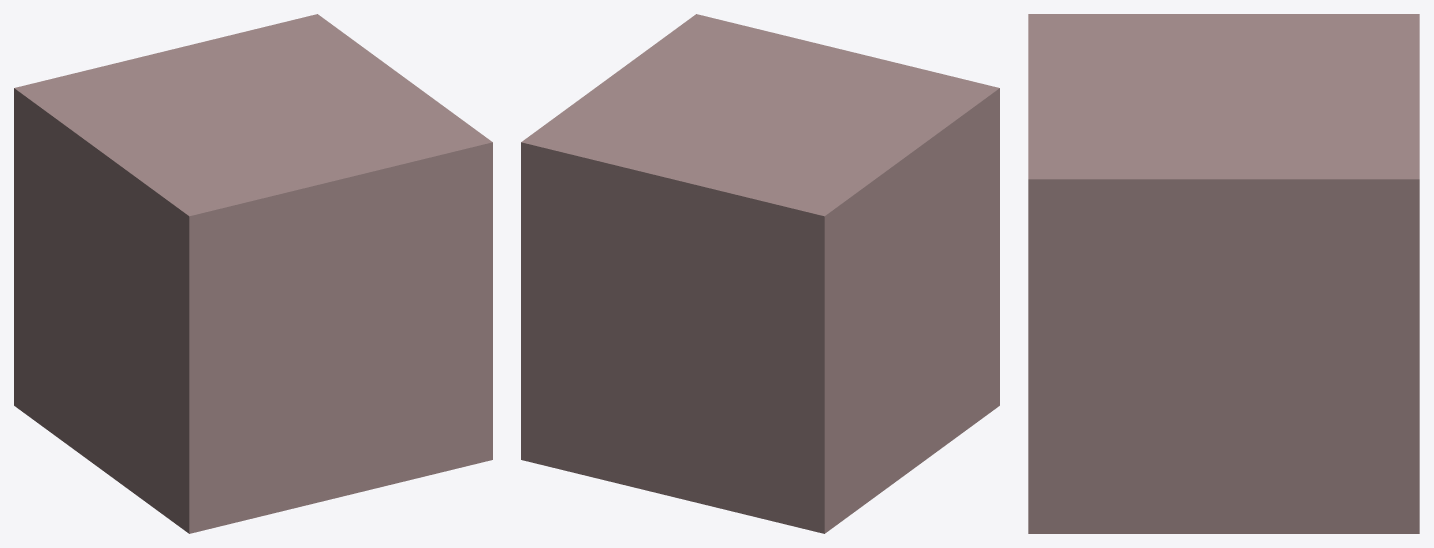
Rendered from destroyableWall.fbx.
3 renders of one model, left to right at view 1: azimuth 30°, elevation 25°; view 2: azimuth 150°, elevation 25°; view 3: azimuth 270°, elevation 25°, orthographic. The views are drawn at different scales.
Visible parts, largest first — view 1: littleRock_121, littleRock_21, littleRock_46, littleRock_71, littleRock_96, littleRock_106, littleRock_111, littleRock_116, littleRock_101, littleRock_122, littleRock_124, littleRock_123 (+49 smaller); view 2: littleRock_125, littleRock_25, littleRock_50, littleRock_75, littleRock_100, littleRock_110, littleRock_115, littleRock_120, littleRock_105, littleRock_124, littleRock_122, littleRock_123 (+49 smaller); view 3: littleRock_101, littleRock_105, littleRock_102, littleRock_104, littleRock_103, littleRock_76, littleRock_80, littleRock_77, littleRock_79, littleRock_78, littleRock_1, littleRock_2 (+33 smaller).
Boxes of the visible parts, x1,y1,x2,y2 form: littleRock_121: (154, 176, 249, 279); littleRock_21: (154, 445, 249, 533); littleRock_46: (154, 381, 249, 470); littleRock_71: (154, 318, 249, 406); littleRock_96: (154, 254, 249, 343); littleRock_106: (336, 131, 432, 235); littleRock_111: (276, 146, 371, 249); littleRock_116: (215, 161, 310, 264); littleRock_101: (397, 116, 492, 220); littleRock_122: (119, 150, 214, 253); littleRock_124: (49, 99, 144, 202); littleRock_123: (84, 124, 179, 227); littleRock_125: (764, 176, 859, 279); littleRock_25: (764, 445, 859, 533); littleRock_50: (764, 381, 859, 470); littleRock_75: (764, 318, 859, 406); littleRock_100: (764, 254, 859, 343); littleRock_110: (581, 131, 677, 235); littleRock_115: (642, 146, 737, 249); littleRock_120: (703, 161, 798, 264); littleRock_105: (521, 116, 616, 220); littleRock_124: (799, 150, 894, 253); littleRock_122: (869, 99, 964, 202); littleRock_123: (834, 124, 929, 227); littleRock_101: (1028, 146, 1106, 250); littleRock_105: (1341, 146, 1419, 250); littleRock_102: (1106, 146, 1184, 250); littleRock_104: (1263, 146, 1341, 250); littleRock_103: (1185, 146, 1262, 250); littleRock_76: (1028, 250, 1106, 321); littleRock_80: (1341, 250, 1419, 321); littleRock_77: (1106, 250, 1184, 321); littleRock_79: (1263, 250, 1341, 321); littleRock_78: (1185, 250, 1262, 321); littleRock_1: (1028, 463, 1106, 533); littleRock_2: (1106, 463, 1184, 533).
Size of the model in its own units: 10 by 10 by 10.
